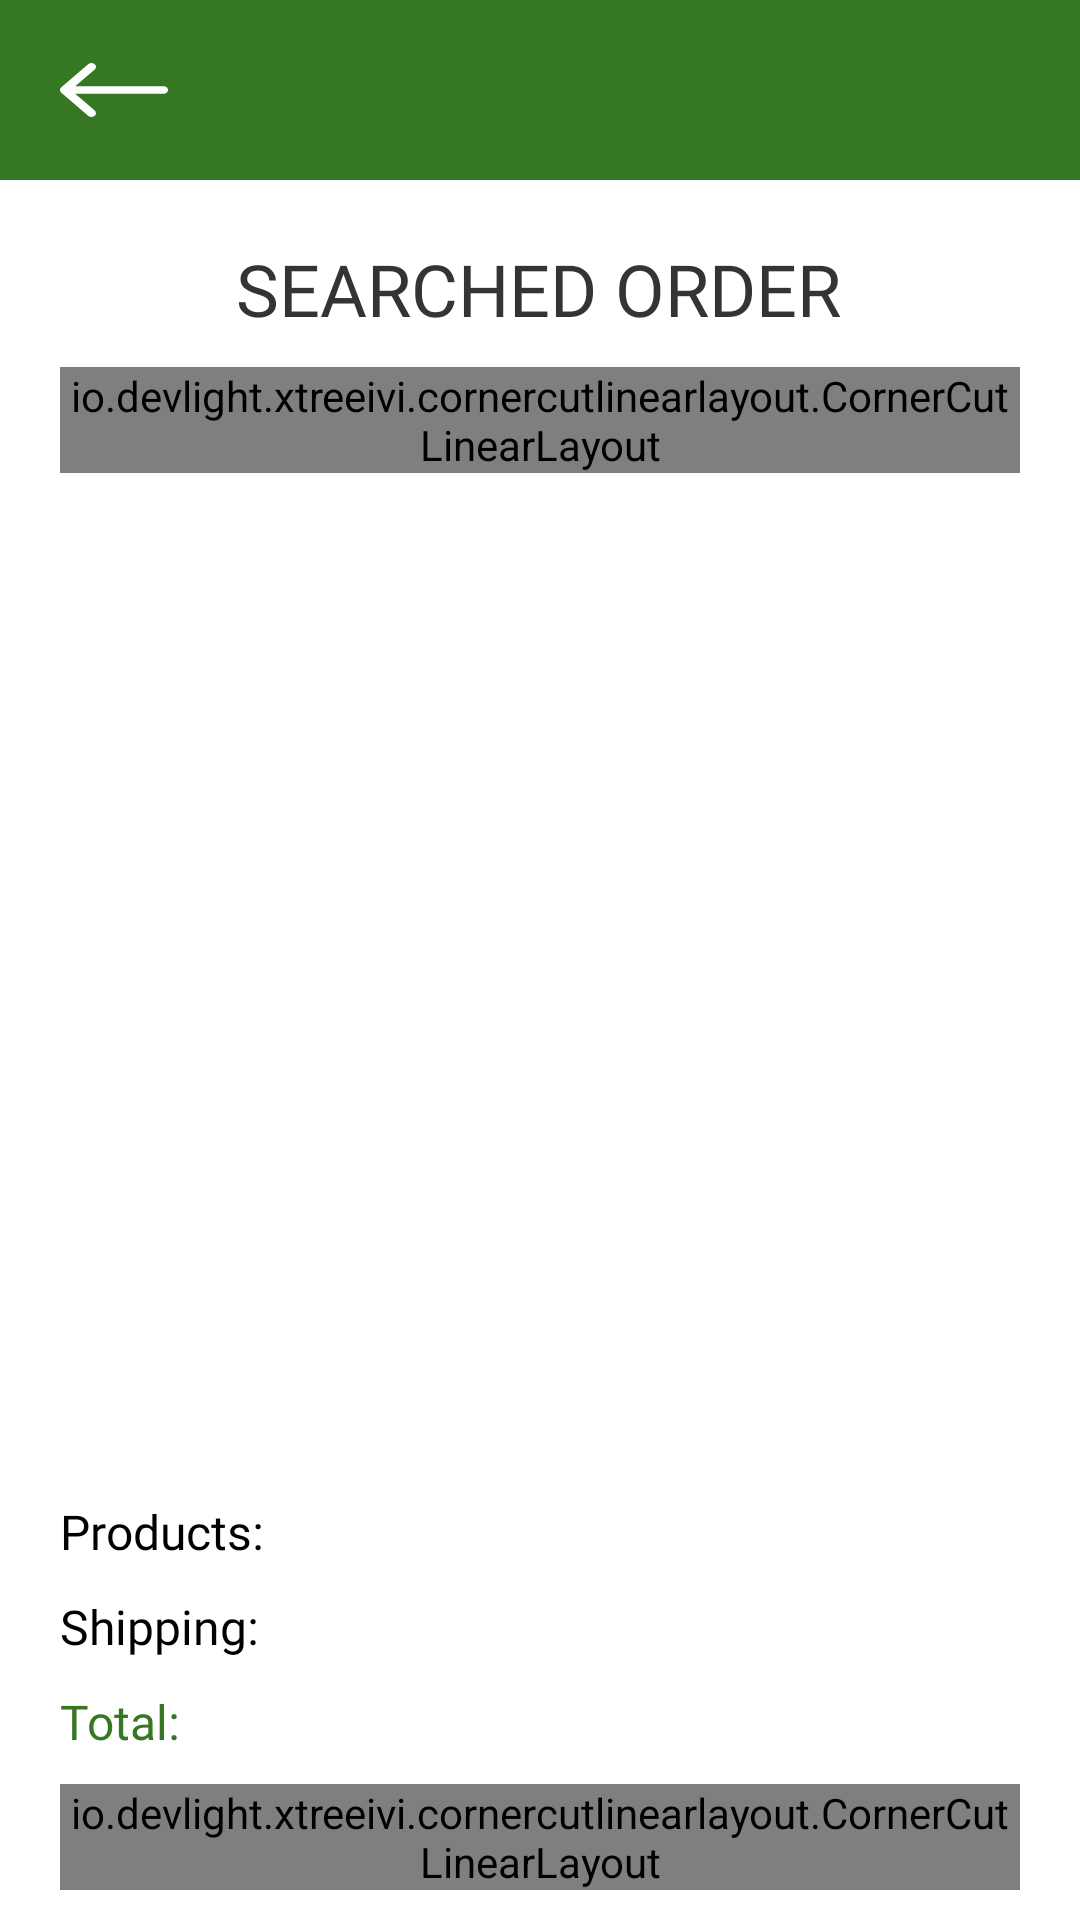

Where to tap for icons on this 1080×1920 app screen, as [x,y]:
arrow: [114,90]
